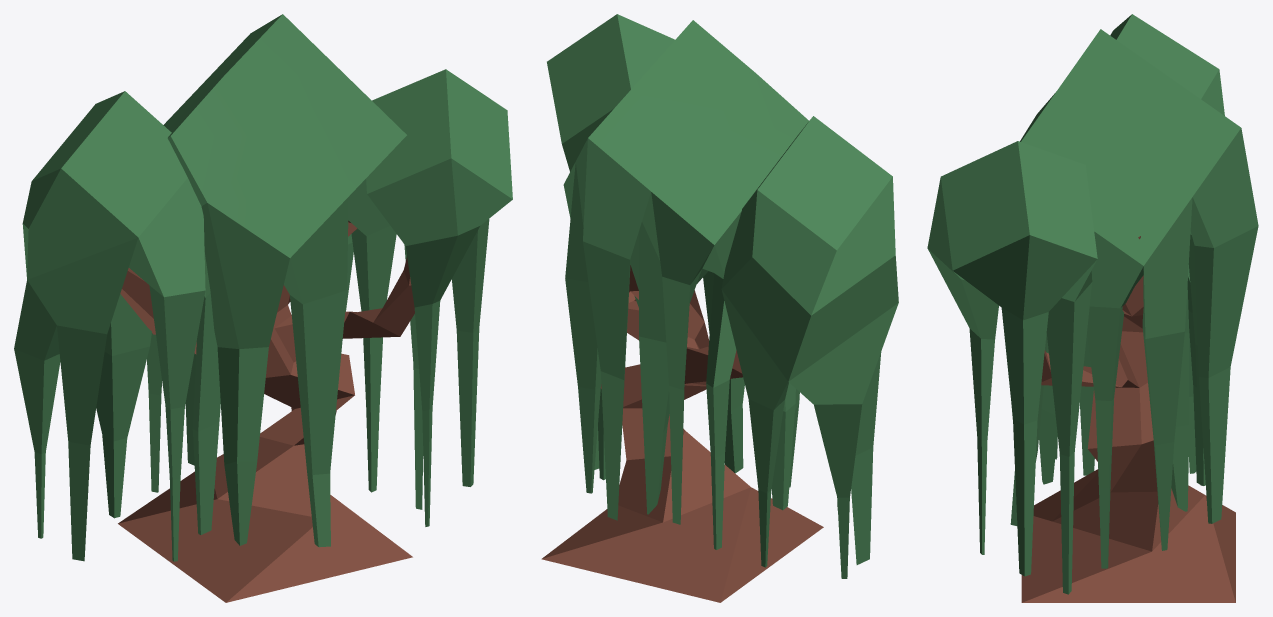
File: Willow_tree_v2_exp_01.fbx
3 renders of one model, left to right at view 1: azimuth 30°, elevation 25°; view 2: azimuth 150°, elevation 25°; view 3: azimuth 270°, elevation 25°, orthographic. The views are drawn at different scales.
Visible parts, largest first — view 1: trees_and_grass_broken_maya:pCube12; view 2: trees_and_grass_broken_maya:pCube12; view 3: trees_and_grass_broken_maya:pCube12.
Part boxes in pixels (x1,y1,x2,y2): trees_and_grass_broken_maya:pCube12: [14, 14, 512, 602]; trees_and_grass_broken_maya:pCube12: [541, 14, 898, 602]; trees_and_grass_broken_maya:pCube12: [927, 14, 1258, 602].
Bounding box in the file's own units: 976 × 1178 × 667.
